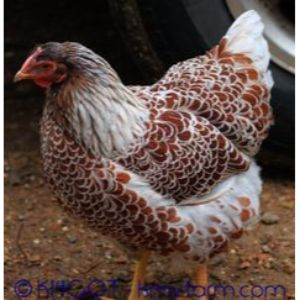hen: (11, 10, 278, 298)
